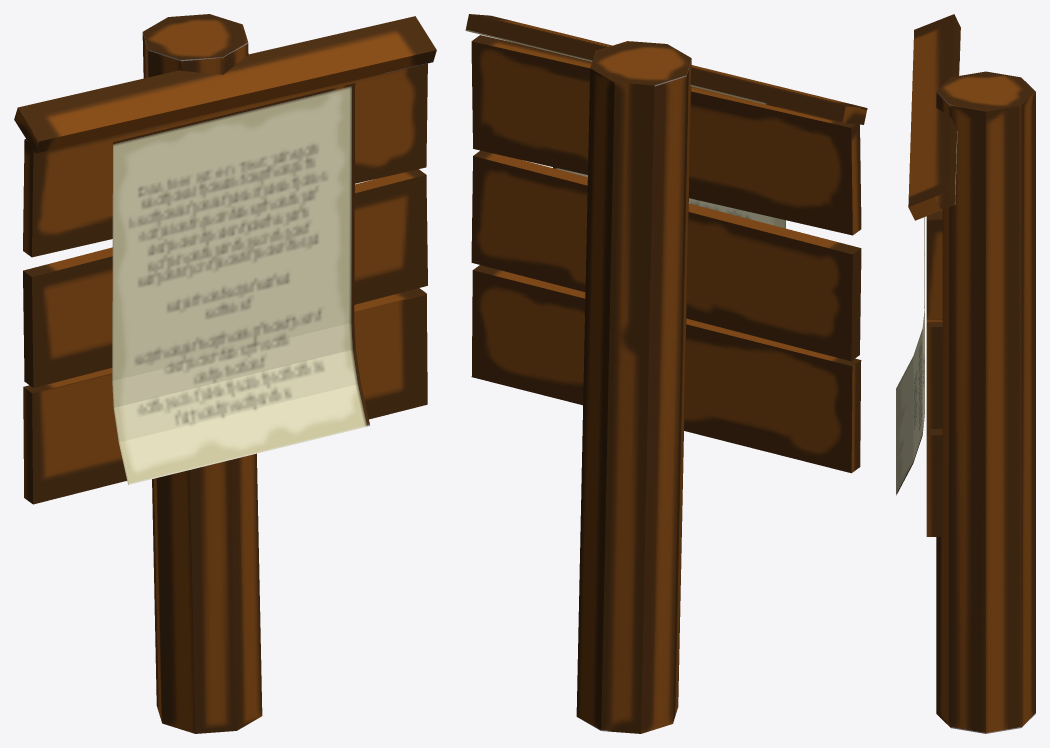
File: small_sign.dae
The picture shows the model from 3 angles, left to right: view 1: azimuth 30°, elevation 25°; view 2: azimuth 150°, elevation 25°; view 3: azimuth 270°, elevation 25°; orthographic projection. The views are drawn at different scales.
Visible parts, largest first — view 1: sign_small-col; view 2: sign_small-col; view 3: sign_small-col.
Boxes of the visible parts, box(x1,y1,x2,y2) form: sign_small-col: box(14, 14, 436, 733); sign_small-col: box(465, 14, 867, 733); sign_small-col: box(896, 14, 1035, 733).
Size of the model in its own units: 1 by 0.3369 by 1.65.
